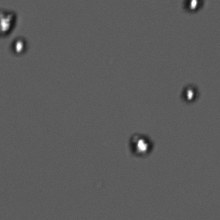Living Cell: (128, 132, 153, 157), (1, 9, 18, 39), (180, 84, 199, 103), (10, 36, 28, 55), (183, 1, 204, 13)
